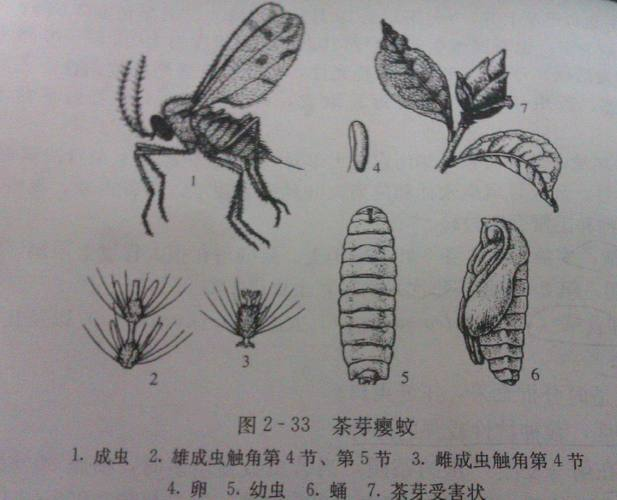Cecidomyiidae: (114, 1, 306, 255)
